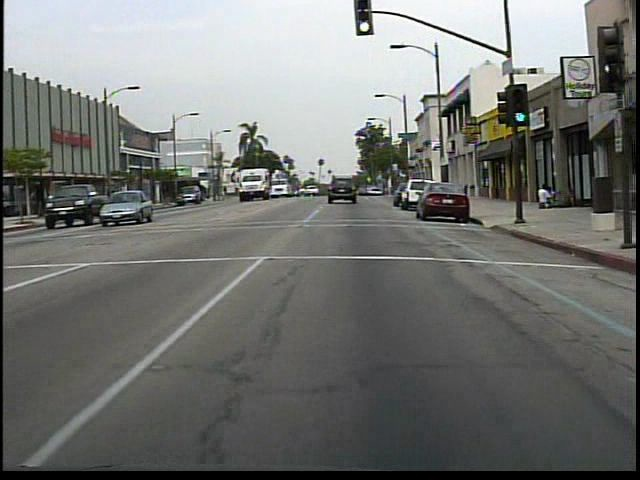person: (534, 183, 551, 212)
